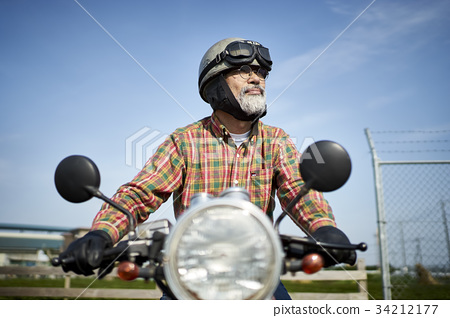helmet: (188, 41, 274, 80)
